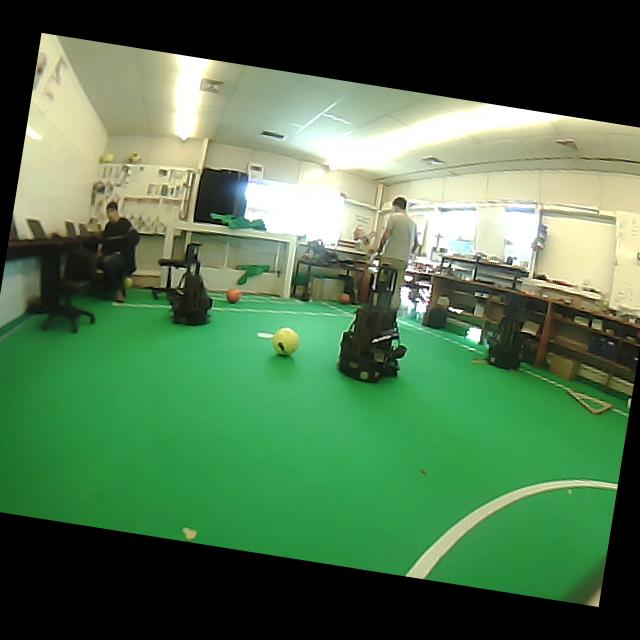ball: (272, 327, 300, 356), (226, 288, 240, 303), (123, 276, 133, 297), (100, 152, 115, 163), (127, 152, 141, 163), (338, 293, 351, 304)
goal: (281, 236, 297, 298)
robot: (337, 266, 407, 382), (168, 243, 211, 325), (488, 315, 521, 370)
